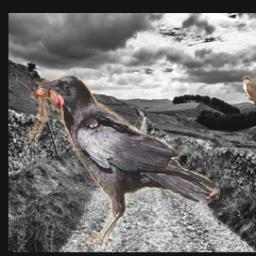Crow: (20, 68, 220, 246)
Cuckoo: (242, 77, 256, 128)
